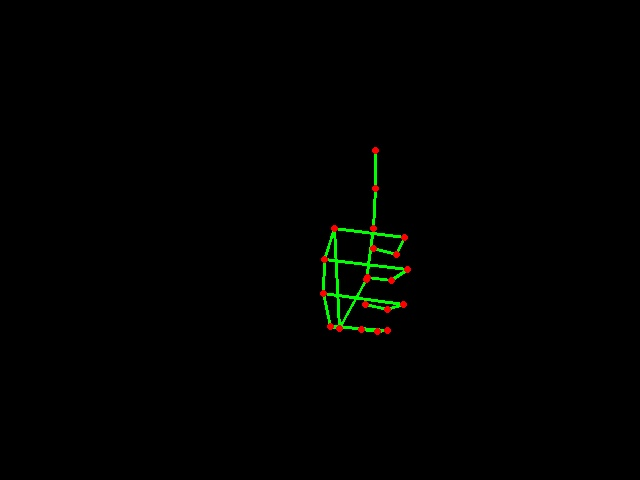fast: (315, 139, 421, 343)
